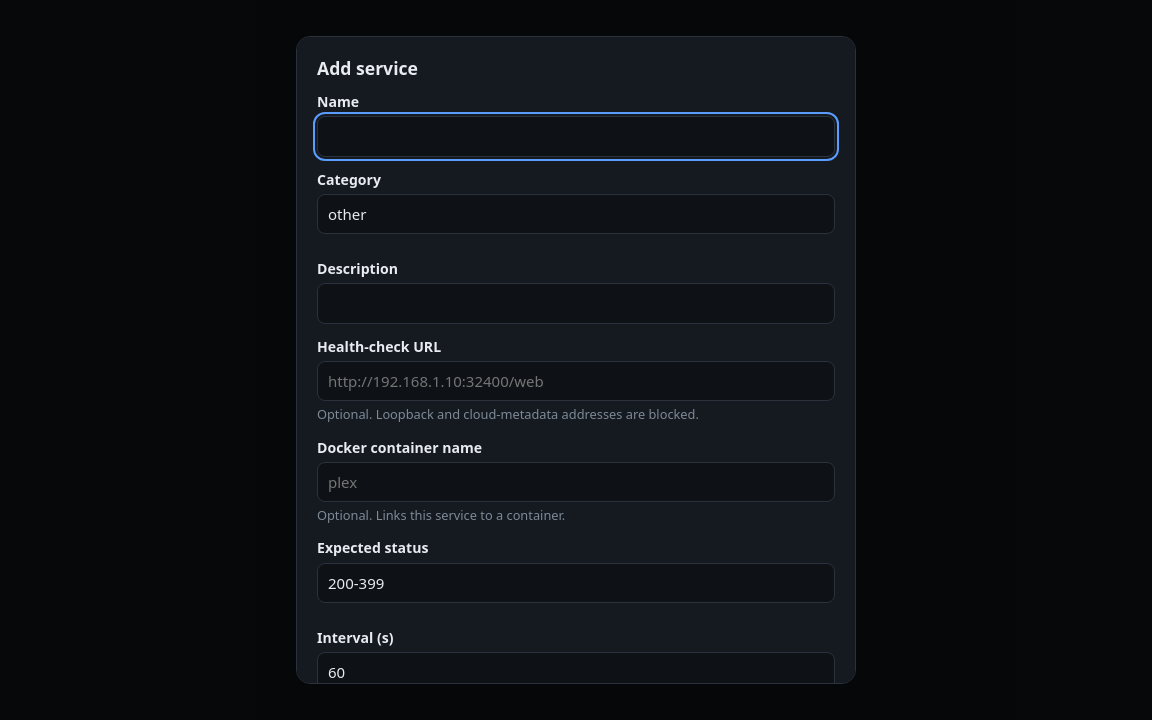
Test case: service form validation › surfaces server-side rejection (SSRF block) next to the field
Type "Meta" into the field labelled "Name".
click(576, 136); type("Meta")  # box x1=317 y1=116 x2=835 y2=157
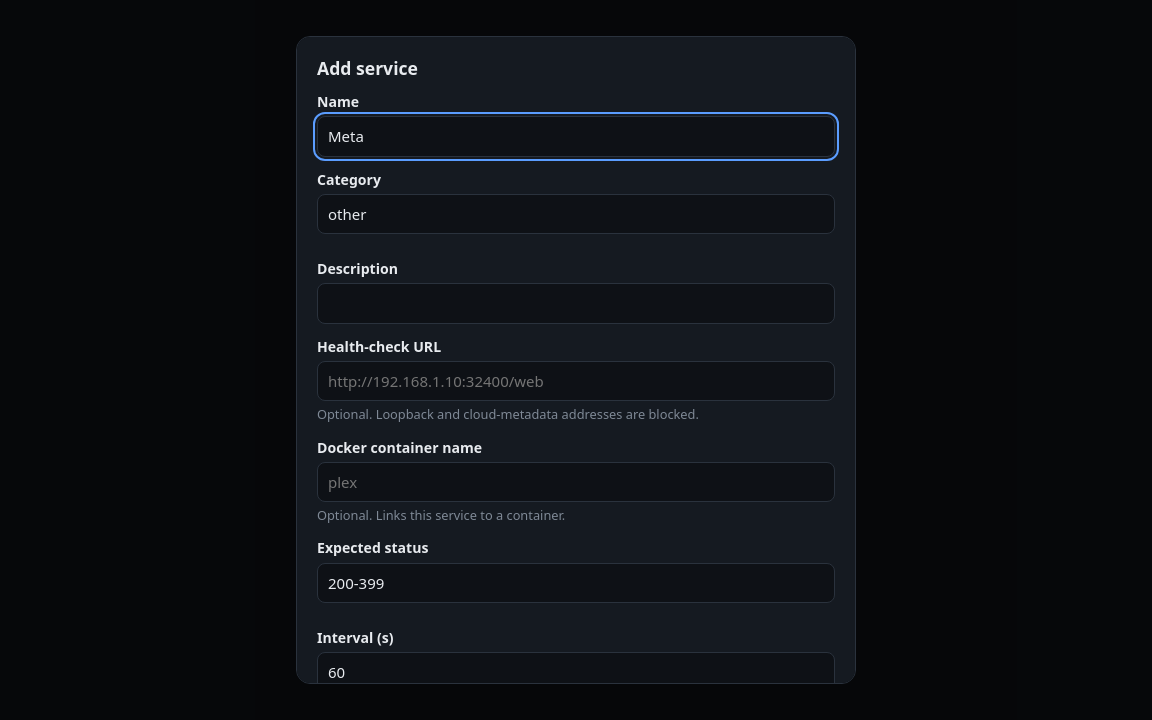
Type "http://169.254.169.254/" into the field labelled "Health-check URL".
click(576, 381); type("http://169.254.169.254/")  # box x1=317 y1=361 x2=835 y2=401
(page scrolled)
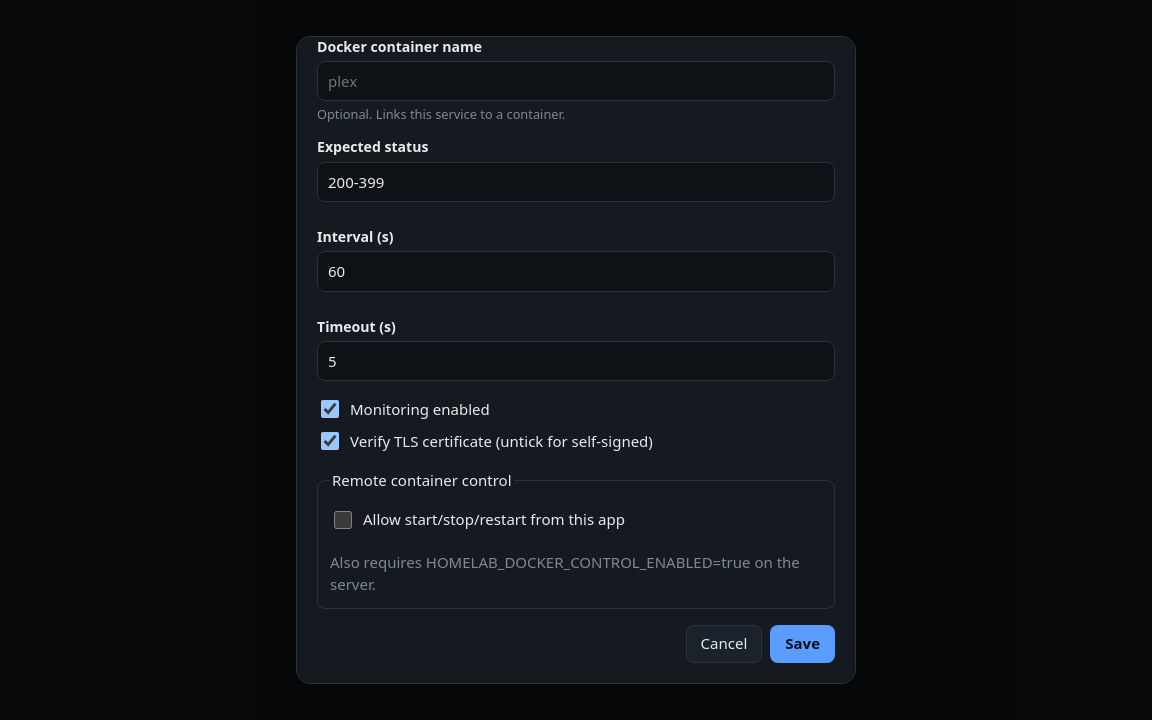
Click the button "Save".
click(803, 644)  # box x1=770 y1=625 x2=835 y2=663
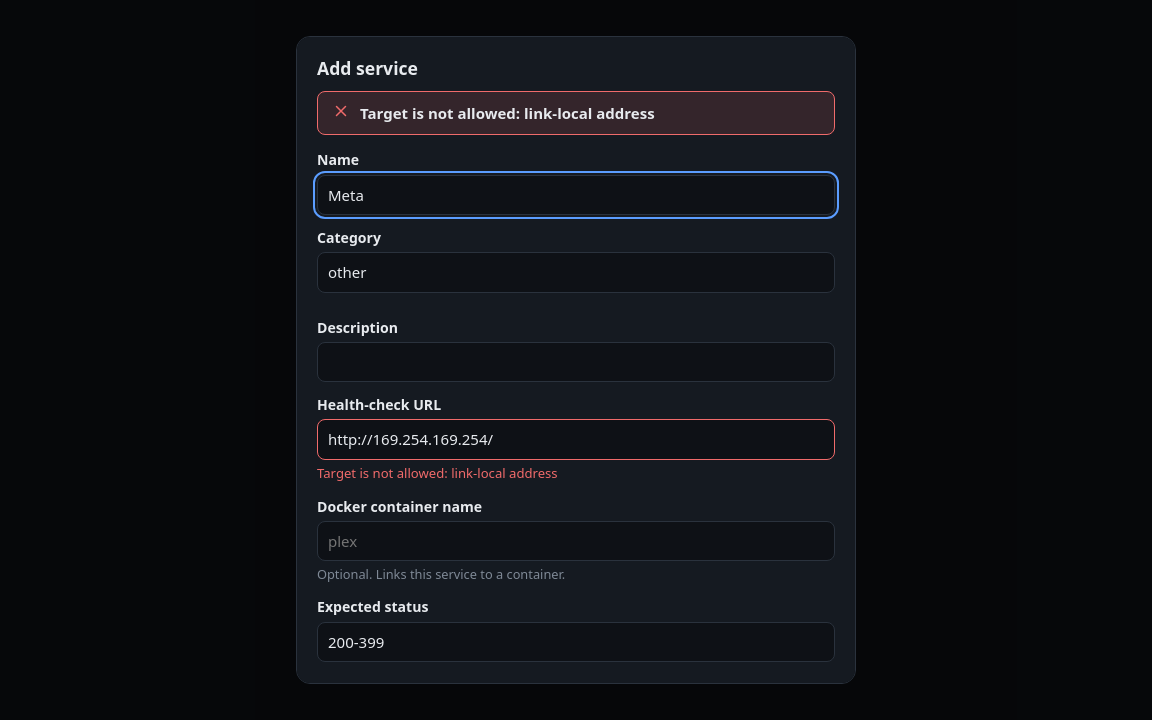
expect the text "Target is not allowed: link-local address" is shown: met, box x1=360 y1=103 x2=655 y2=123
